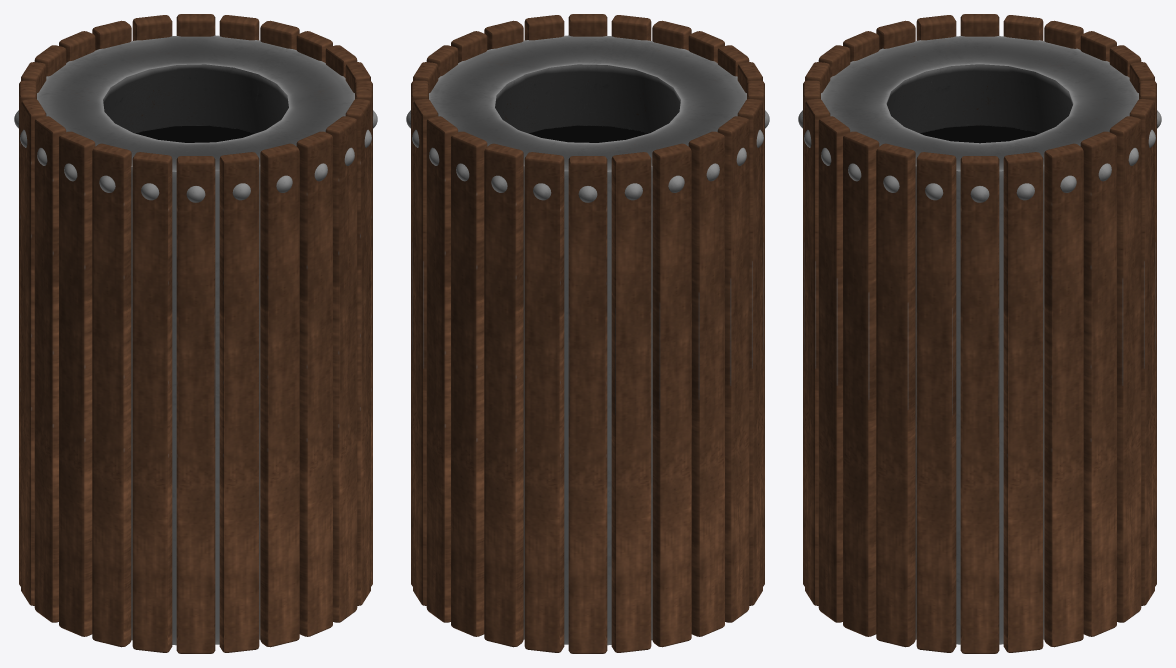
Rendered from trash.glb.
3 renders of one model, left to right at view 1: azimuth 30°, elevation 25°; view 2: azimuth 150°, elevation 25°; view 3: azimuth 270°, elevation 25°, orthographic.
Parts seen in each view (by area): view 1: pCylinder2; view 2: pCylinder2; view 3: pCylinder2.
Part boxes in pixels (bbox=[...]): pCylinder2: bbox=[14, 14, 377, 653]; pCylinder2: bbox=[406, 14, 769, 653]; pCylinder2: bbox=[798, 14, 1161, 653].
Size of the model in its own units: 4.33 by 6.48 by 4.33.
Materials: 1 (1 with a texture image).
